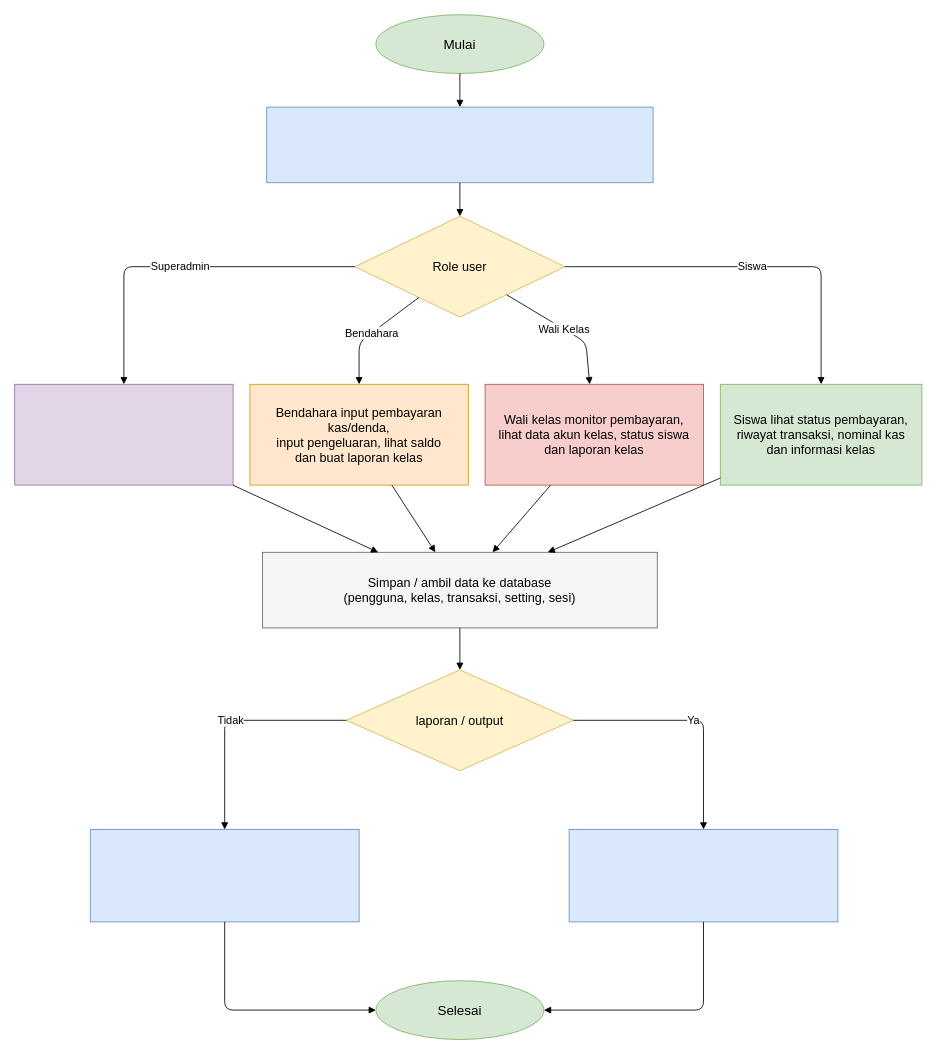
The diagram is 937 pixels wide and 1054 high, and some of its shapes have lost their labels. Here are the shapes that lost their labels. From the top down, the centre of each, then its label:
At (x=459, y=144): "User login sesuai role (Superadmin / Bendahara / Wali Kelas / Siswa)".
At (x=123, y=434): "Superadmin kelola user, kelas, tahun ajaran, pengaturan kas, backup & restore".
At (x=224, y=875): "Simpan perubahan dan tampilkan notifikasi berhasil".
At (x=703, y=875): "Tampilkan dashboard, tabel, riwayat, status pembayaran, PDF / Excel / Cetak".
